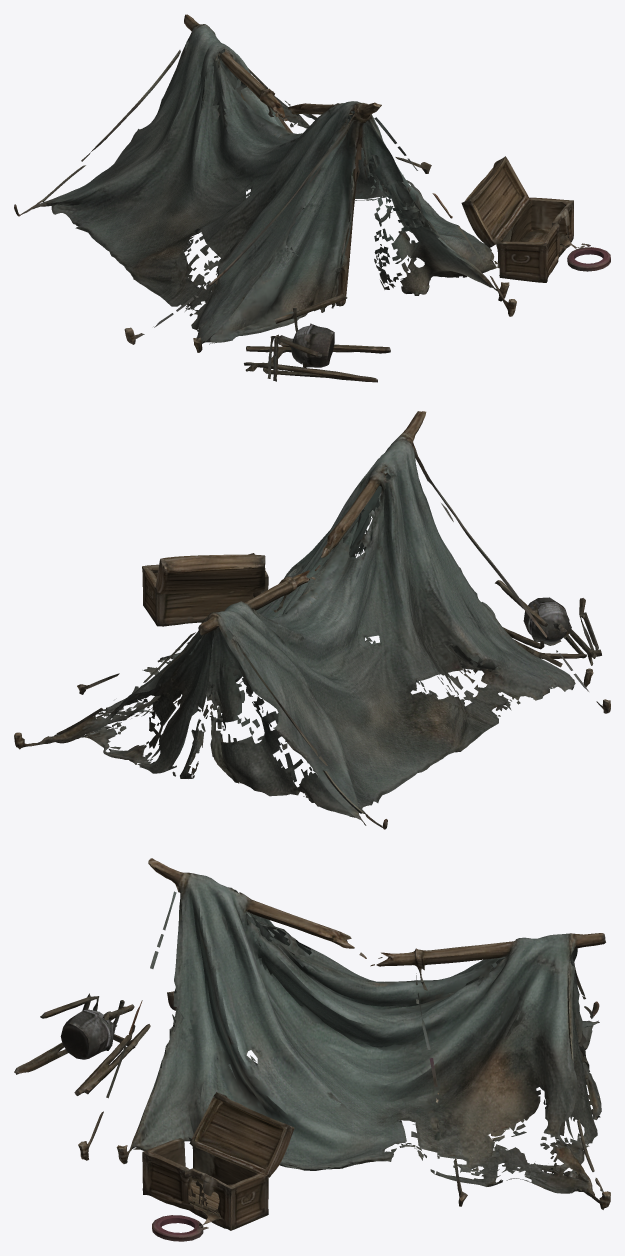
File: meadows_field_tent.glb
3 renders of one model, top to bottom at view 1: azimuth 30°, elevation 25°; view 2: azimuth 150°, elevation 25°; view 3: azimuth 270°, elevation 25°, orthographic. The views are drawn at different scales.
Parts seen in each view (by area): view 1: Mesh_0; view 2: Mesh_0; view 3: Mesh_0.
Part boxes in pixels (x1,y1,x2,y2): Mesh_0: (14, 14, 610, 382); Mesh_0: (14, 411, 610, 829); Mesh_0: (14, 858, 610, 1241).
Bounding box in the file's own units: 1.87 × 0.8634 × 1.88.
1 material, 1 textured.
